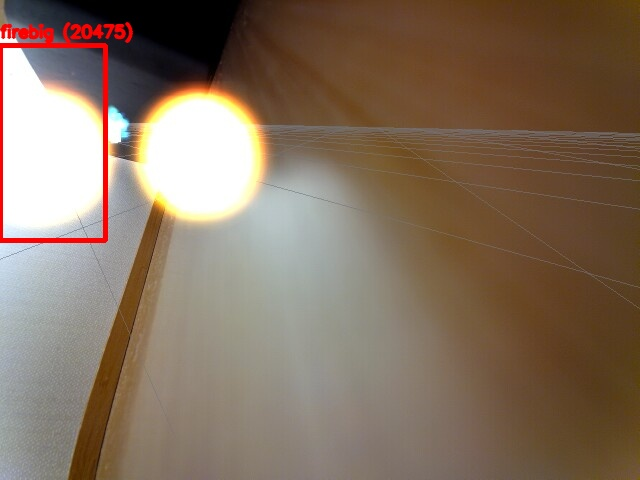firebig: (0, 45, 105, 240)
